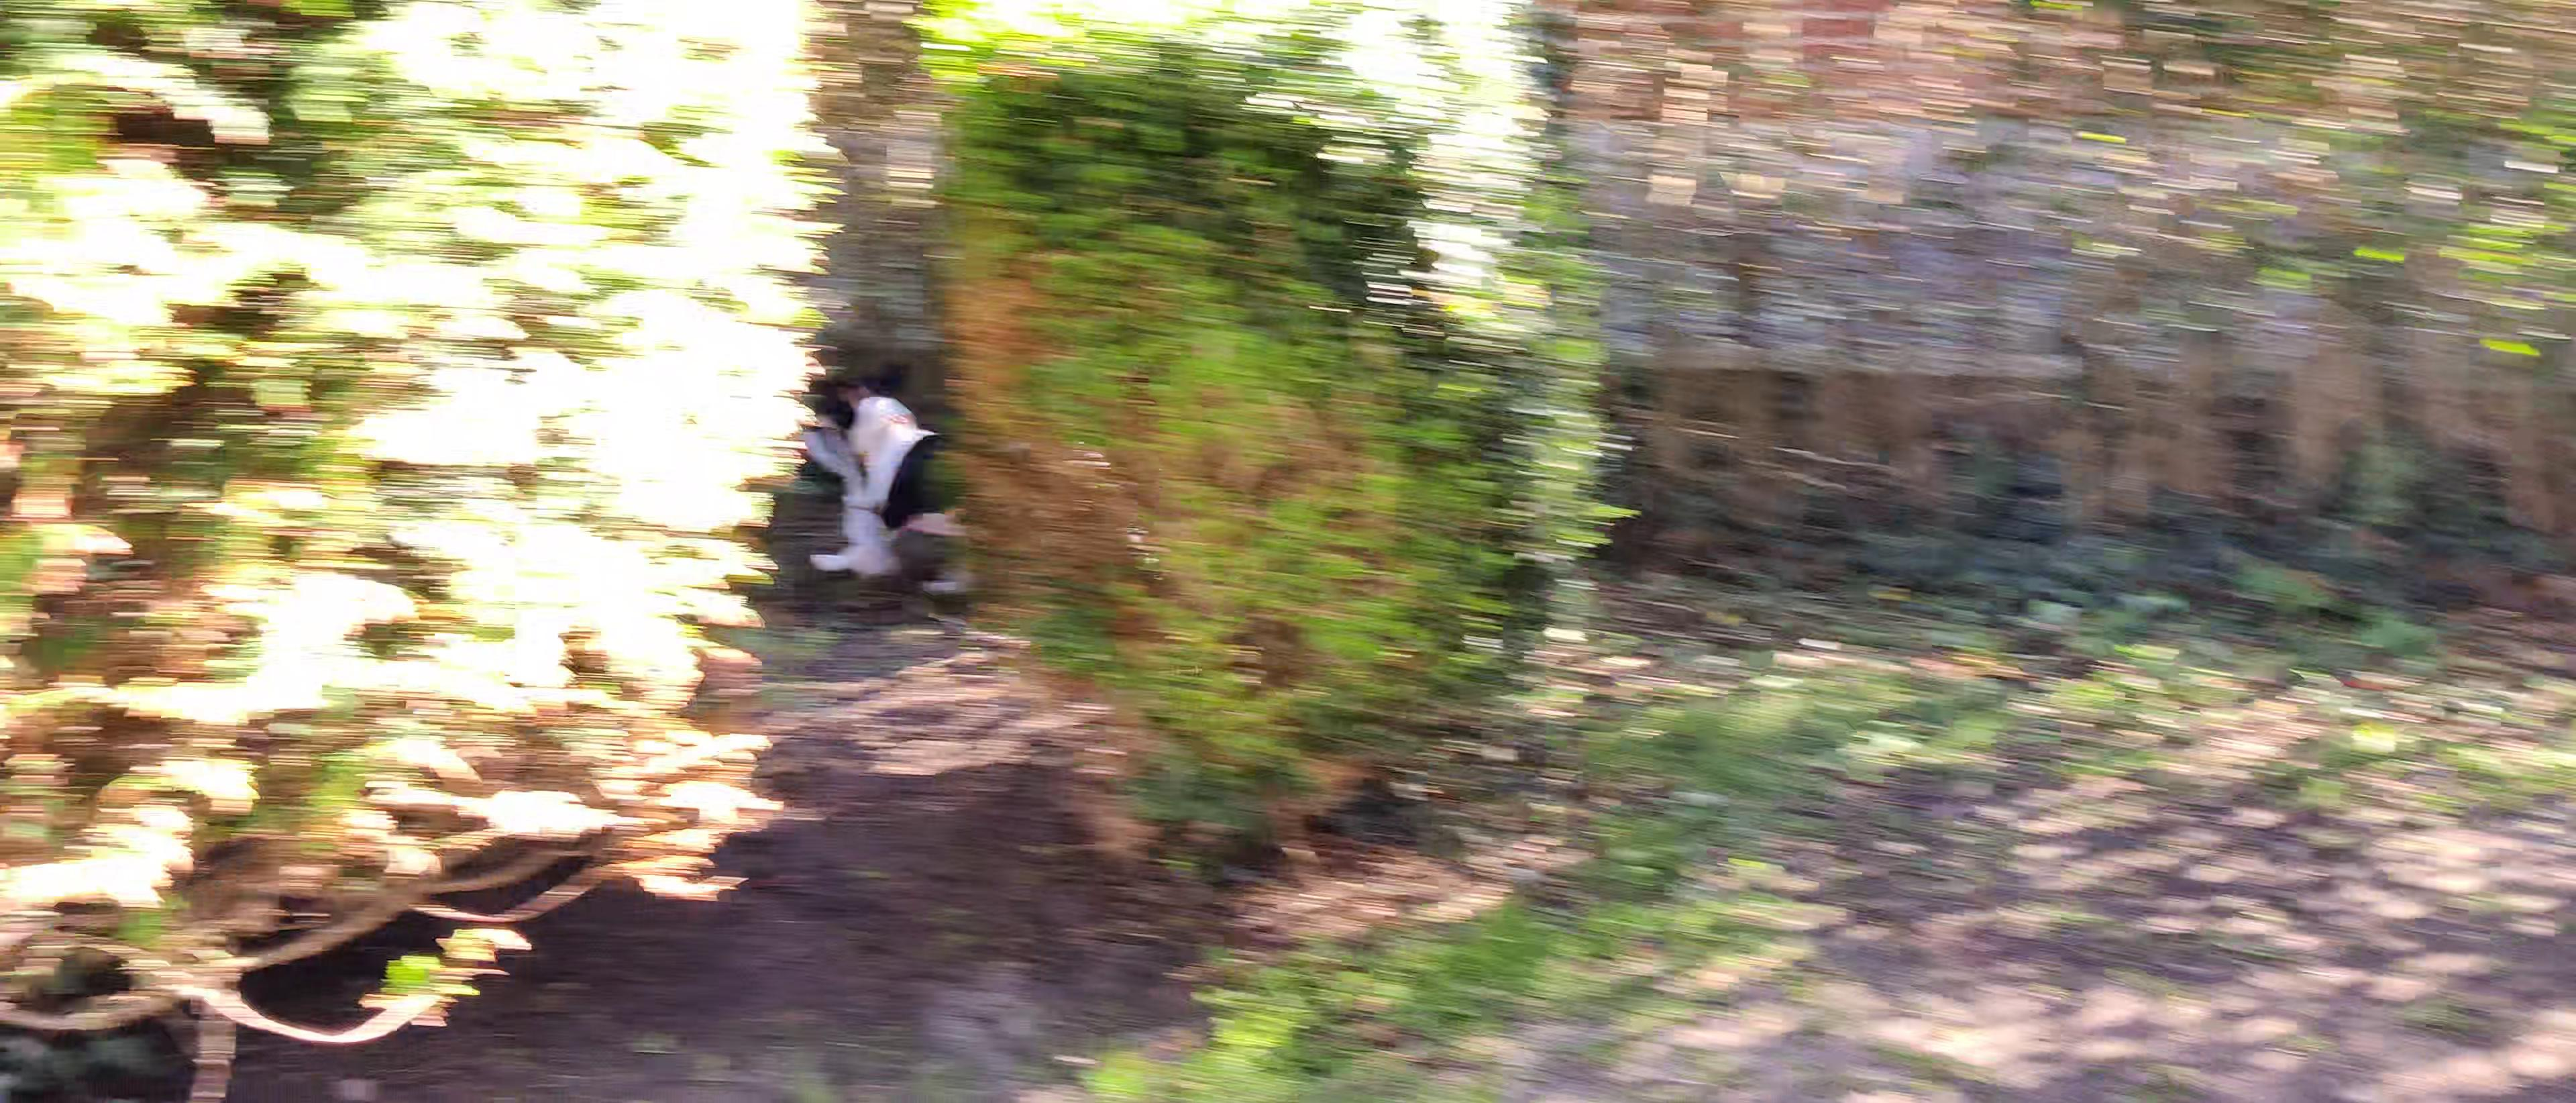Dog: (793, 344, 1198, 625)
